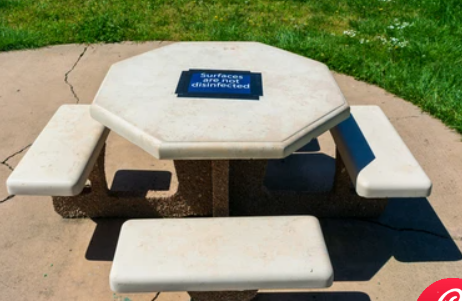obstacle: (7, 39, 446, 293)
